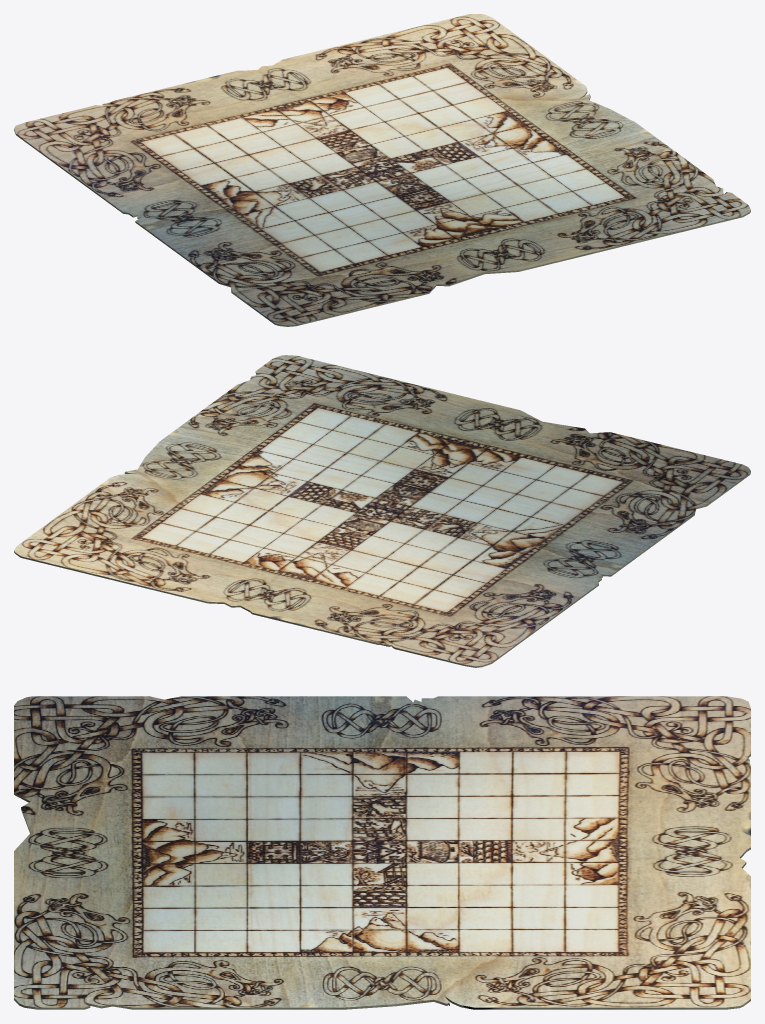
The model's file is Parchment_HneVar2.fbx.
The picture shows the model from 3 angles, top to bottom: view 1: azimuth 30°, elevation 25°; view 2: azimuth 150°, elevation 25°; view 3: azimuth 270°, elevation 25°; orthographic projection. The views are drawn at different scales.
Parts seen in each view (by area): view 1: Parchment; view 2: Parchment; view 3: Parchment.
Boxes of the visible parts, bbox=[...] form: Parchment: bbox=[14, 14, 750, 326]; Parchment: bbox=[14, 355, 750, 667]; Parchment: bbox=[14, 696, 750, 1009].
Size of the model in its own units: 97.43 by 0.31 by 97.43.
Materials: 1 (1 with a texture image).
